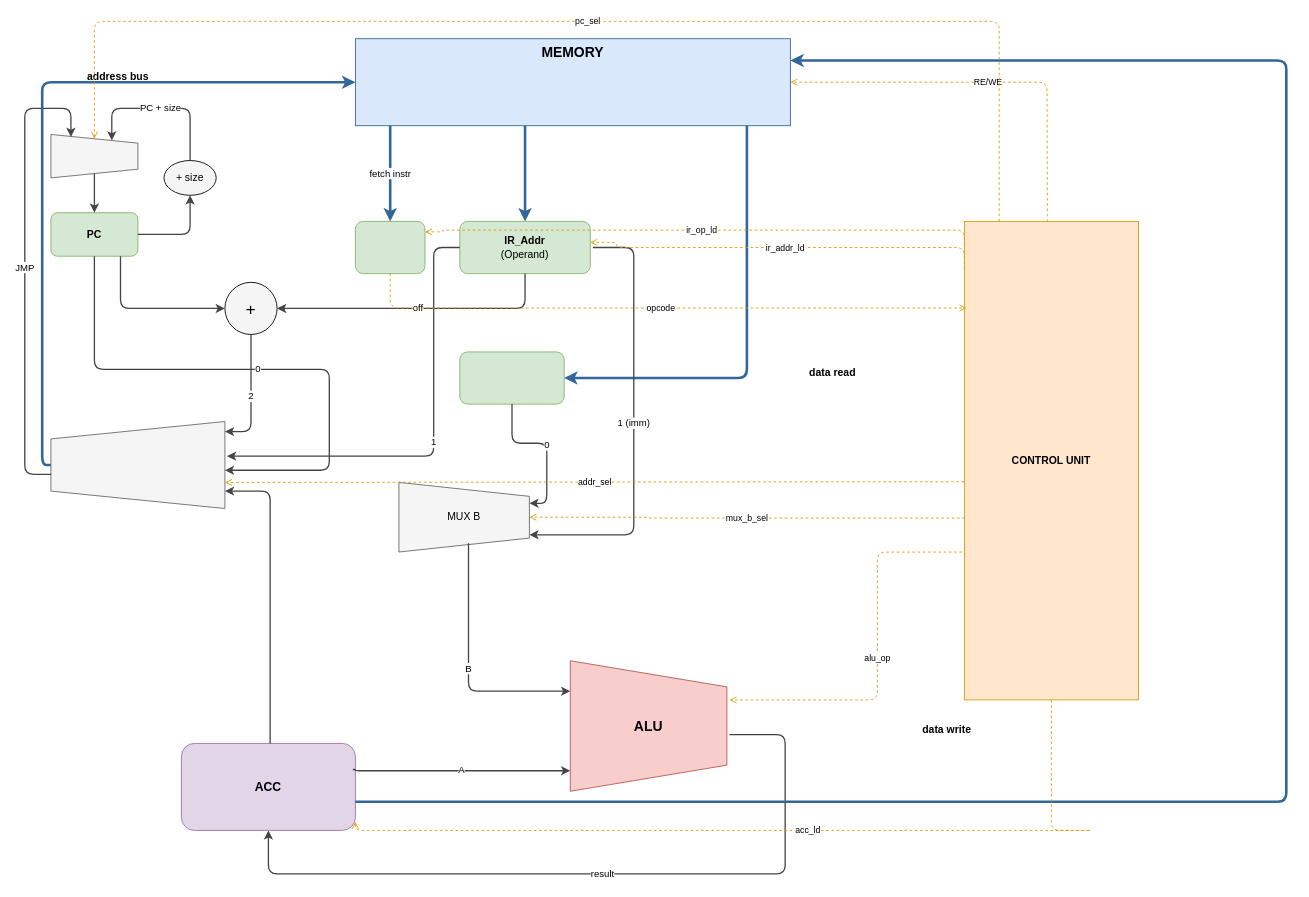
This 1309x897 diagram has some shape labels left out. The shapes that lost their labels are listed below. From the top down, each one's box as (x1, y1, x2, y2) in pixels, then its label:
(50, 134, 138, 178): MUX PC
(355, 221, 425, 274): IR_Op (Opcode)
(459, 351, 564, 404): MDR
(50, 421, 225, 509): MUX Addr
